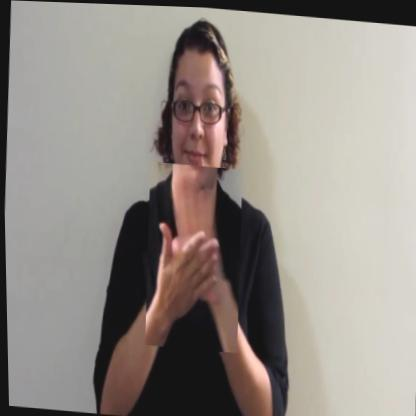NiceToMeetYou: (140, 159, 245, 351)
